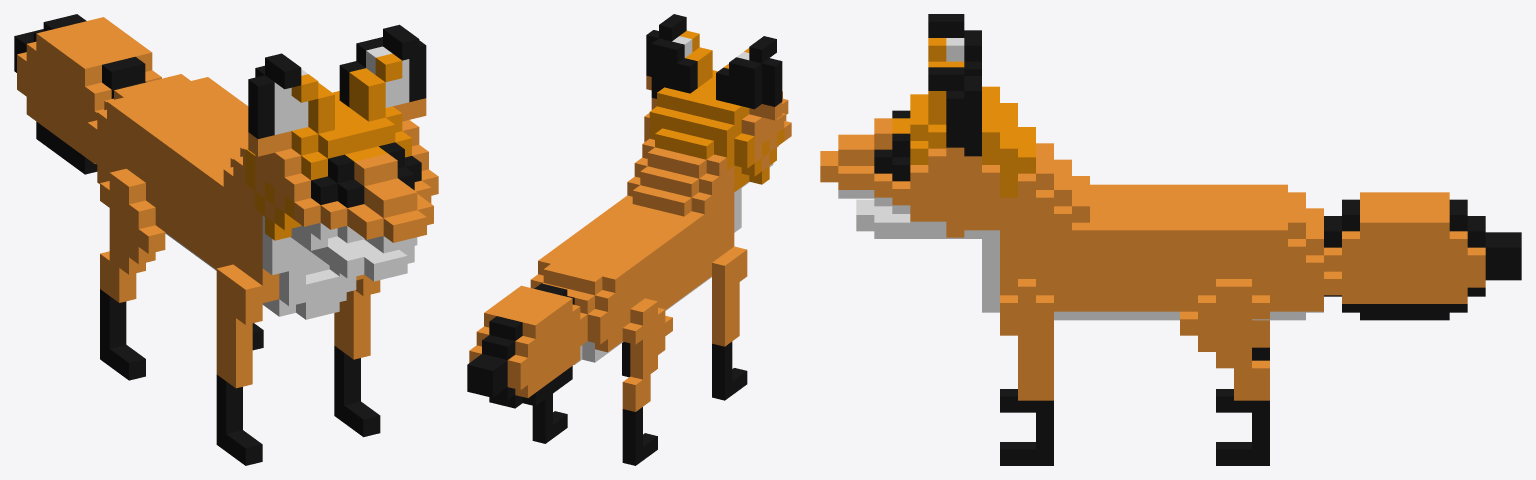
The model's file is character_Fox.obj.
The picture shows the model from 3 angles, left to right: view 1: azimuth 30°, elevation 25°; view 2: azimuth 150°, elevation 25°; view 3: azimuth 270°, elevation 25°; orthographic projection. The views are drawn at different scales.
Size of the model in its own units: 10 by 24 by 39.
Materials: 1 (1 with a texture image).
